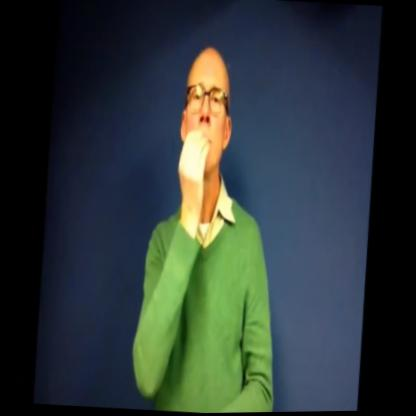Food: (161, 40, 248, 237)
